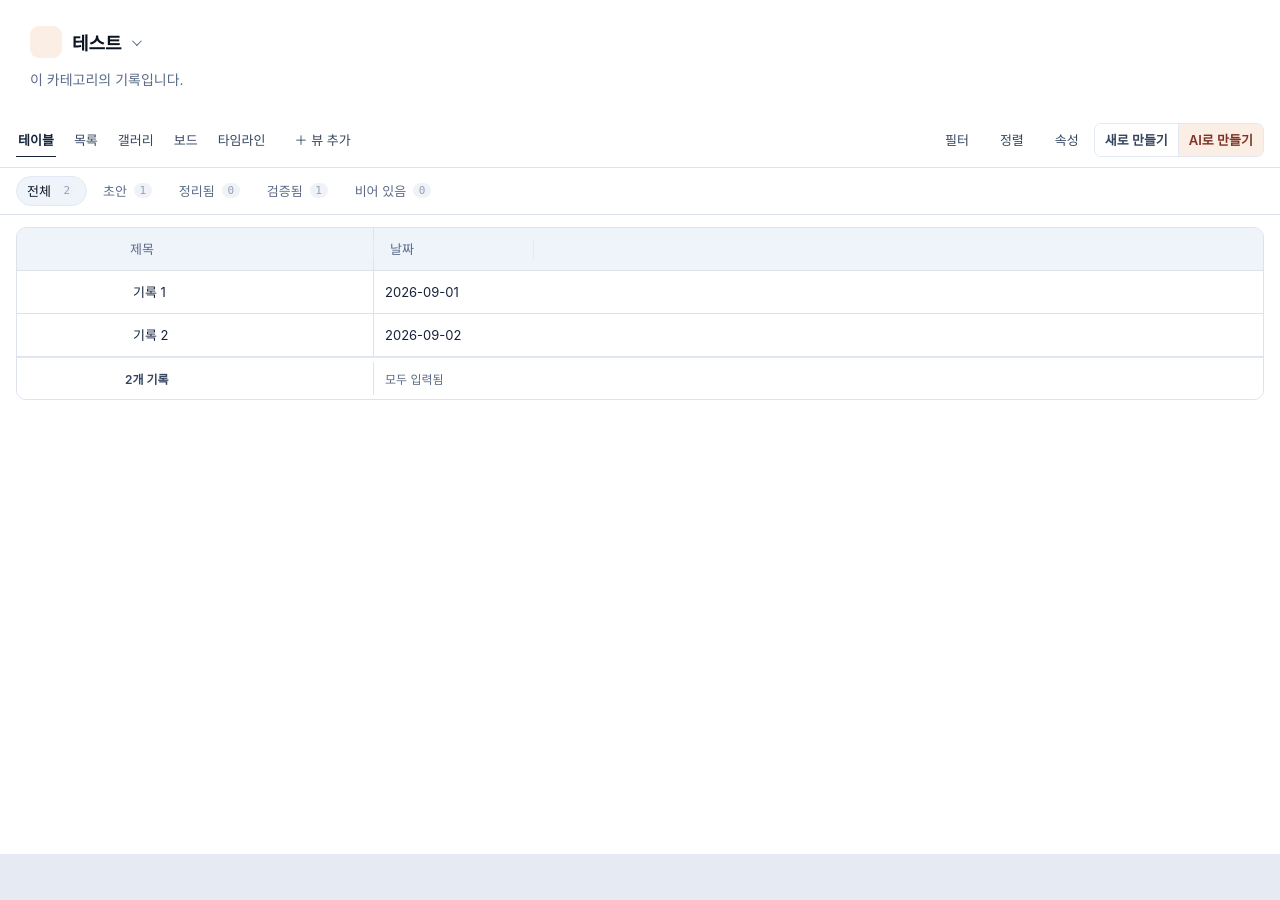
it: CareerViewShell › filters records immediately and opens the guided AI questions
What coordinates should you click on to do the following:
click the button "검증됨 1"
I would click on:
 (297, 190)
Its box is x1=256 y1=176 x2=339 y2=206.
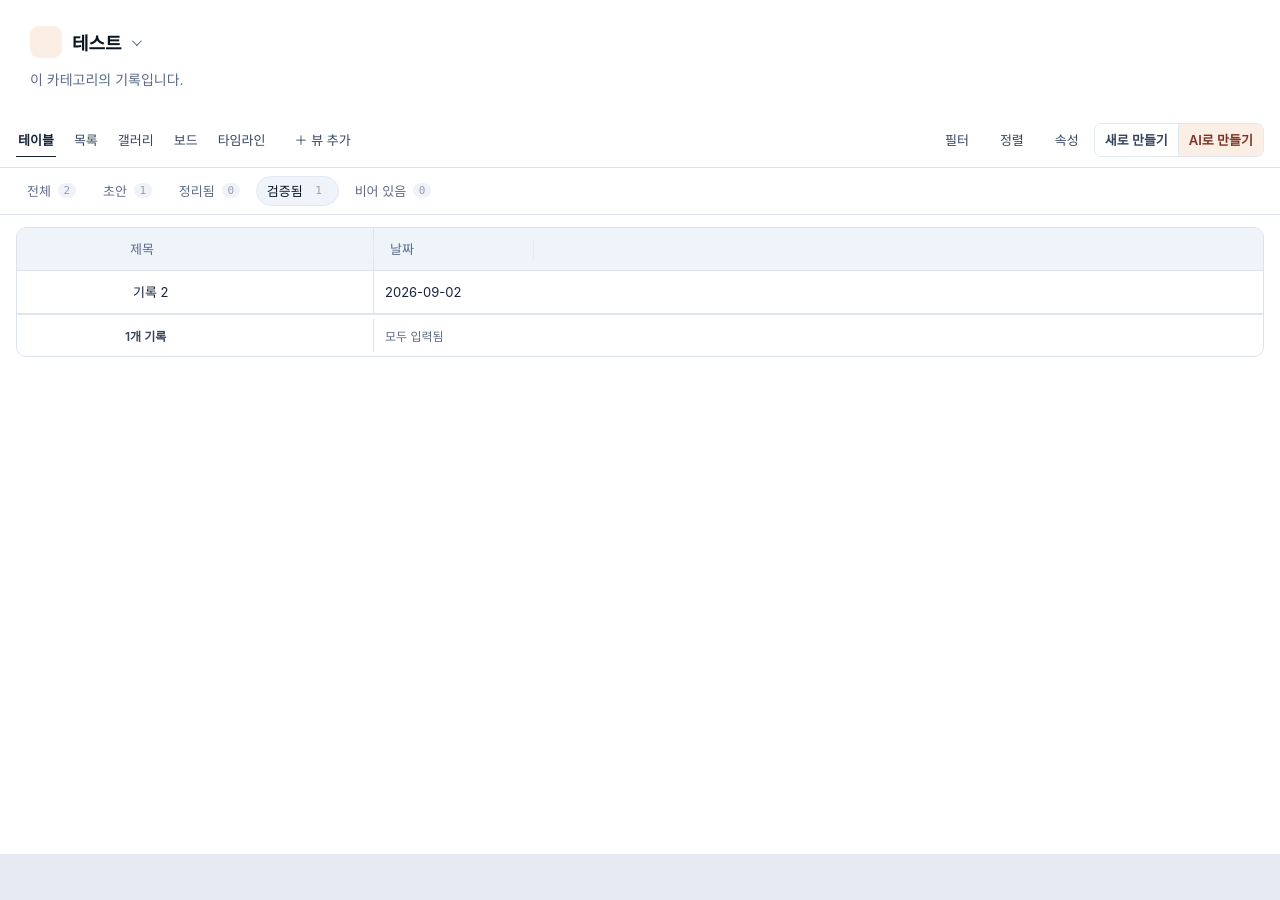
Expected: the row "기록 2 2026-09-02" is shown, x1=17 y1=270 x2=1263 y2=314
Expected: the text "기록 1" is gone
What coordinates should you click on to do the following:
click the button "AI로 만들기"
I would click on:
 (1220, 140)
Its box is x1=1178 y1=124 x2=1263 y2=156.
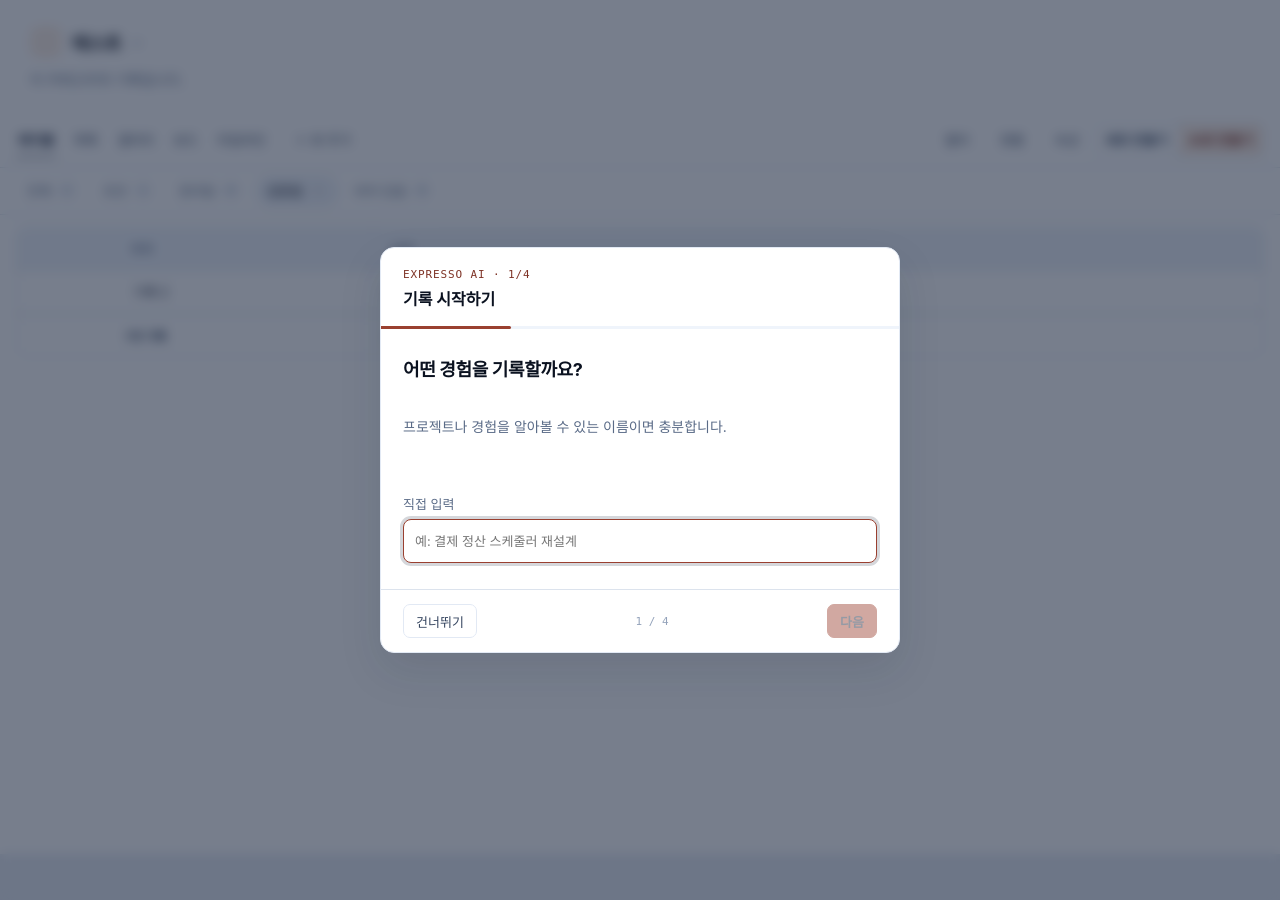
Expected: the dialog shows "기록 시작하기", x1=403 y1=289 x2=495 y2=309
